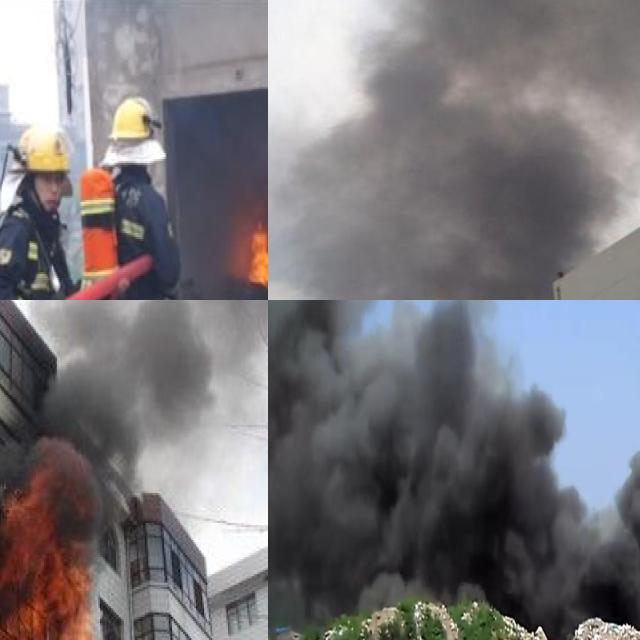fire: (0, 450, 103, 640), (245, 196, 268, 284)
smoke: (268, 300, 640, 640), (292, 120, 616, 264), (23, 300, 268, 478), (182, 96, 268, 201)
